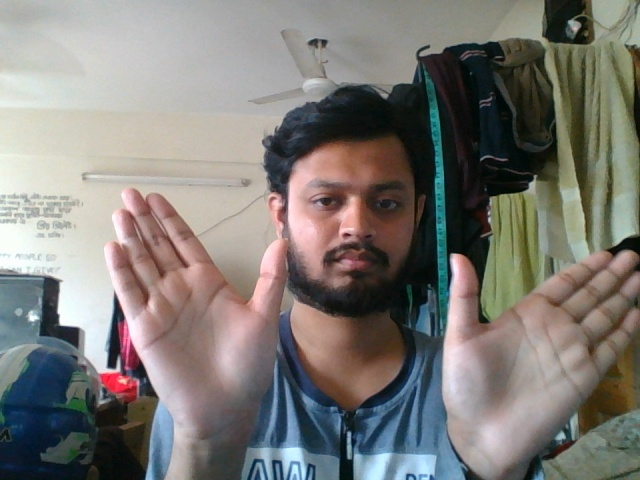naa: (100, 188, 640, 453)
